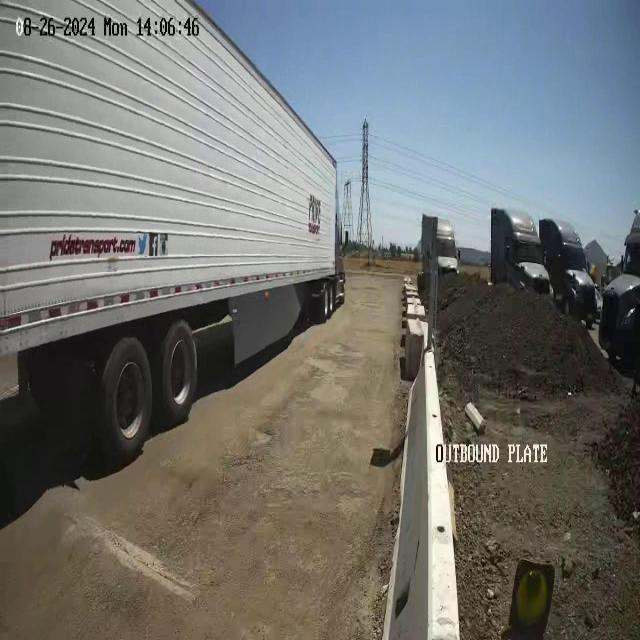TRUCK_IN: (0, 0, 346, 467)
